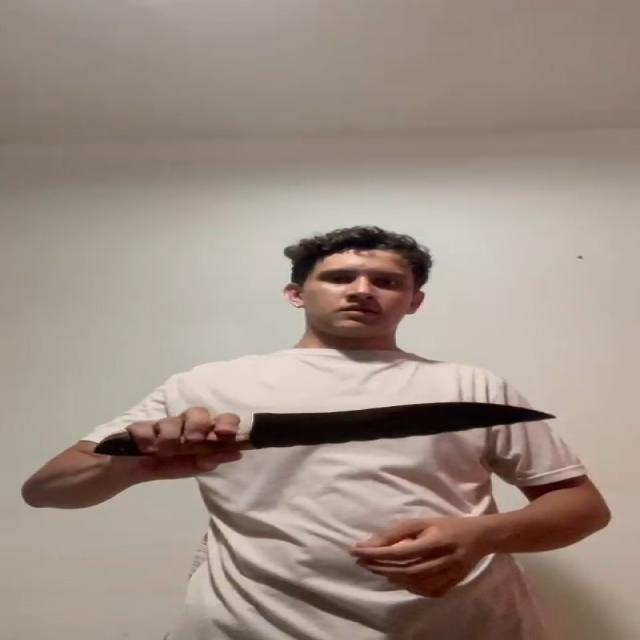knife: (248, 400, 560, 454)
